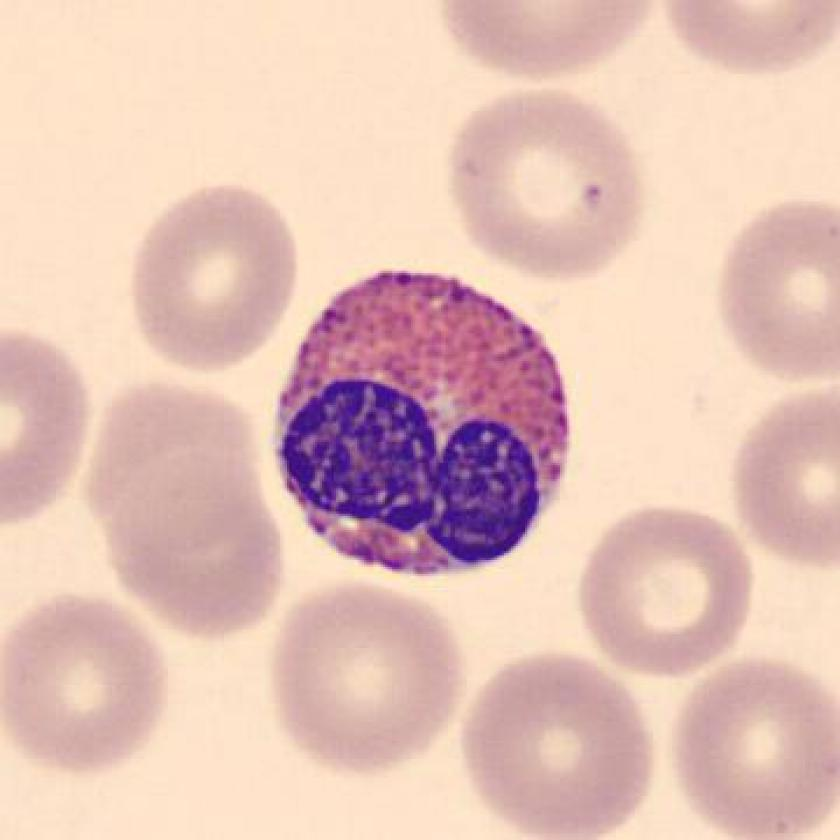eosinophil: (262, 258, 587, 589)
